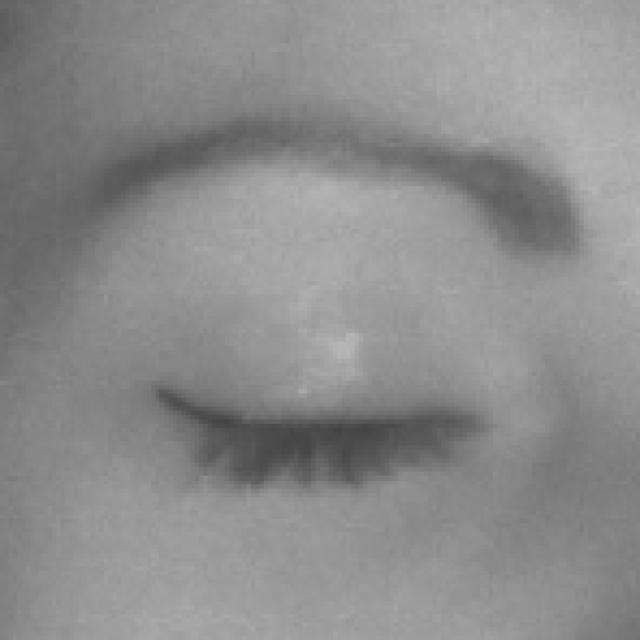close: (0, 52, 640, 571)
